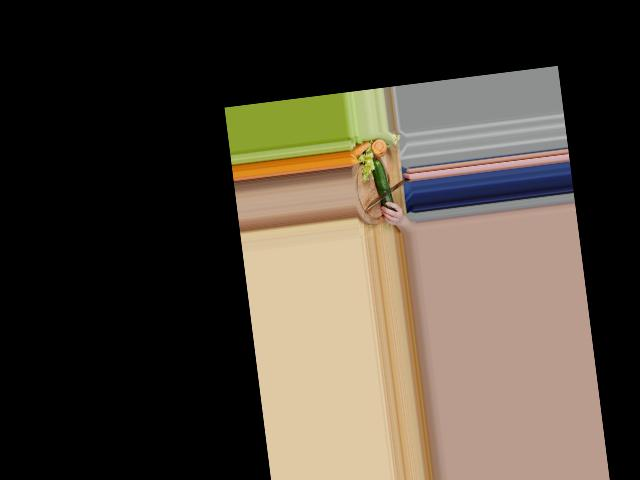cucumber: (371, 157, 394, 212)
